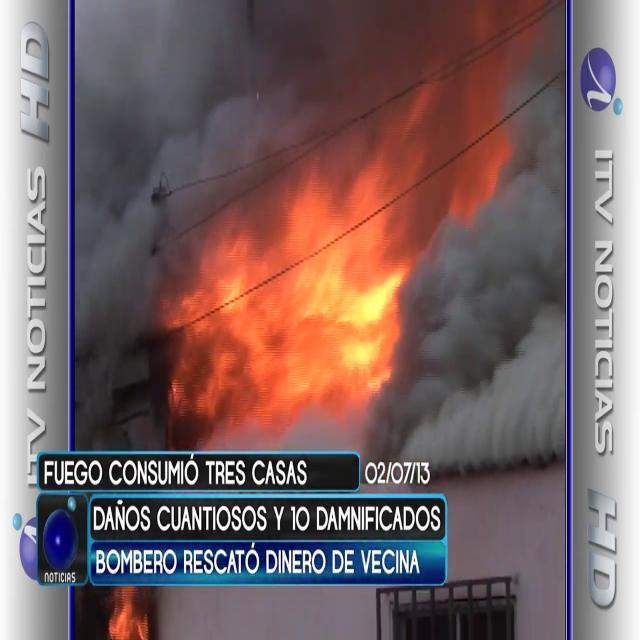Fire: (161, 163, 421, 441), (104, 588, 152, 640)
Smoke: (76, 1, 560, 222), (369, 178, 566, 487)
